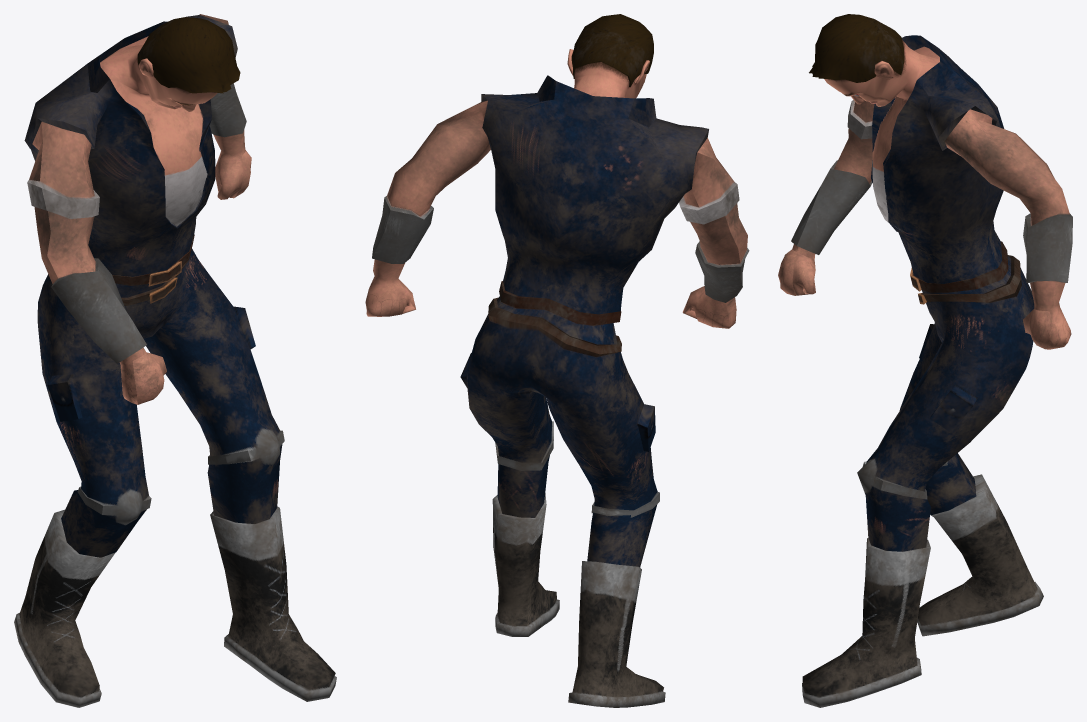
File: Anim_coger_objeto_jugador.0033.obj
The picture shows the model from 3 angles, left to right: view 1: azimuth 30°, elevation 25°; view 2: azimuth 150°, elevation 25°; view 3: azimuth 270°, elevation 25°; orthographic projection. The views are drawn at different scales.
Parts seen in each view (by area): view 1: polySurface1; view 2: polySurface1; view 3: polySurface1.
Part boxes in pixels (x1=…): polySurface1: x1=14, y1=14, x2=336, y2=707; polySurface1: x1=365, y1=14, x2=749, y2=707; polySurface1: x1=778, y1=14, x2=1072, y2=707.
Bounding box in the file's own units: 4.11 × 8.87 × 3.67.
